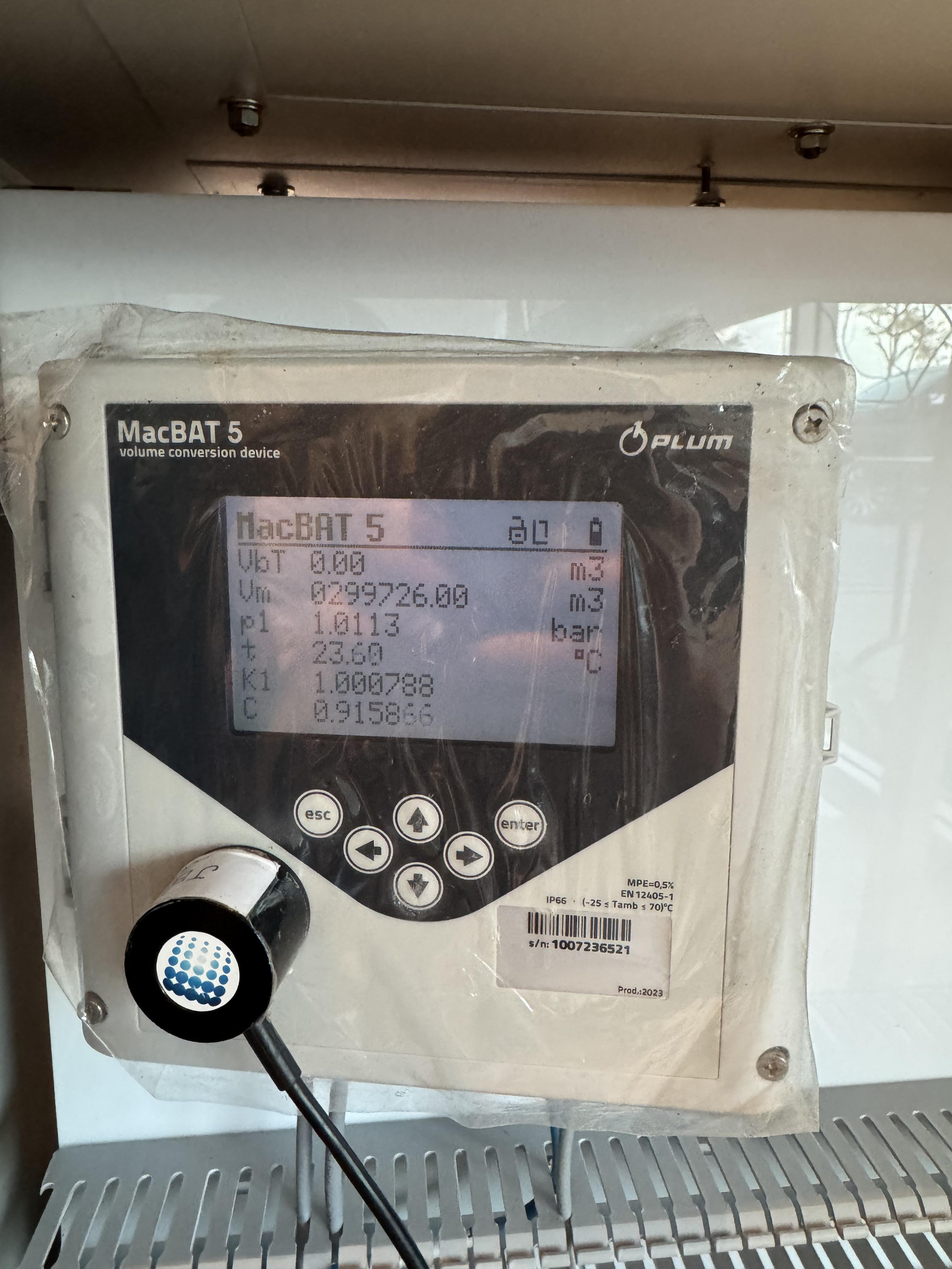digital_screen: (213, 486, 626, 750)
